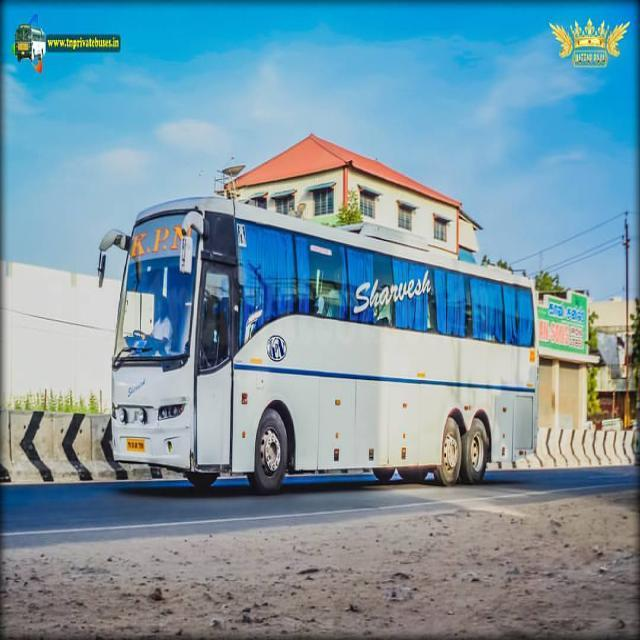Bus: (92, 191, 540, 494)
